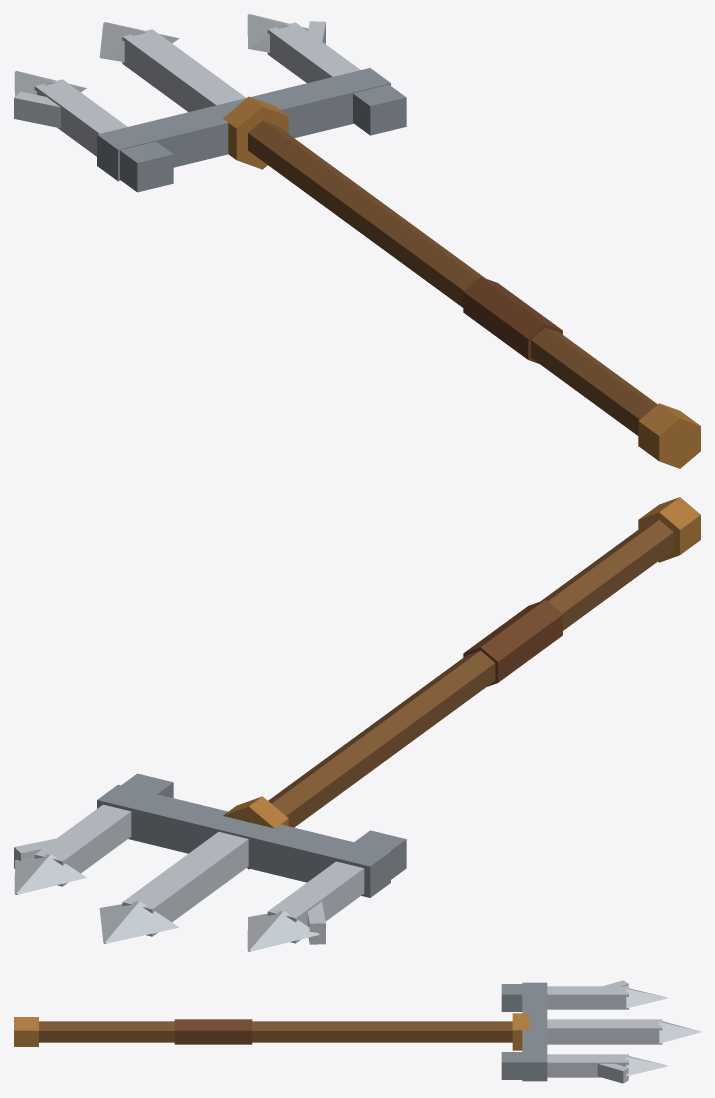
File: WP_Trident.fbx
3 renders of one model, top to bottom at view 1: azimuth 30°, elevation 25°; view 2: azimuth 150°, elevation 25°; view 3: azimuth 270°, elevation 25°, orthographic. The views are drawn at different scales.
Visible parts, largest first — view 1: WP_Trident; view 2: WP_Trident; view 3: WP_Trident.
Boxes of the visible parts, bbox=[...] form: WP_Trident: bbox=[14, 14, 700, 468]; WP_Trident: bbox=[14, 497, 700, 951]; WP_Trident: bbox=[14, 980, 700, 1083].
Size of the model in its own units: 0.7766 by 2.48 by 0.15.
